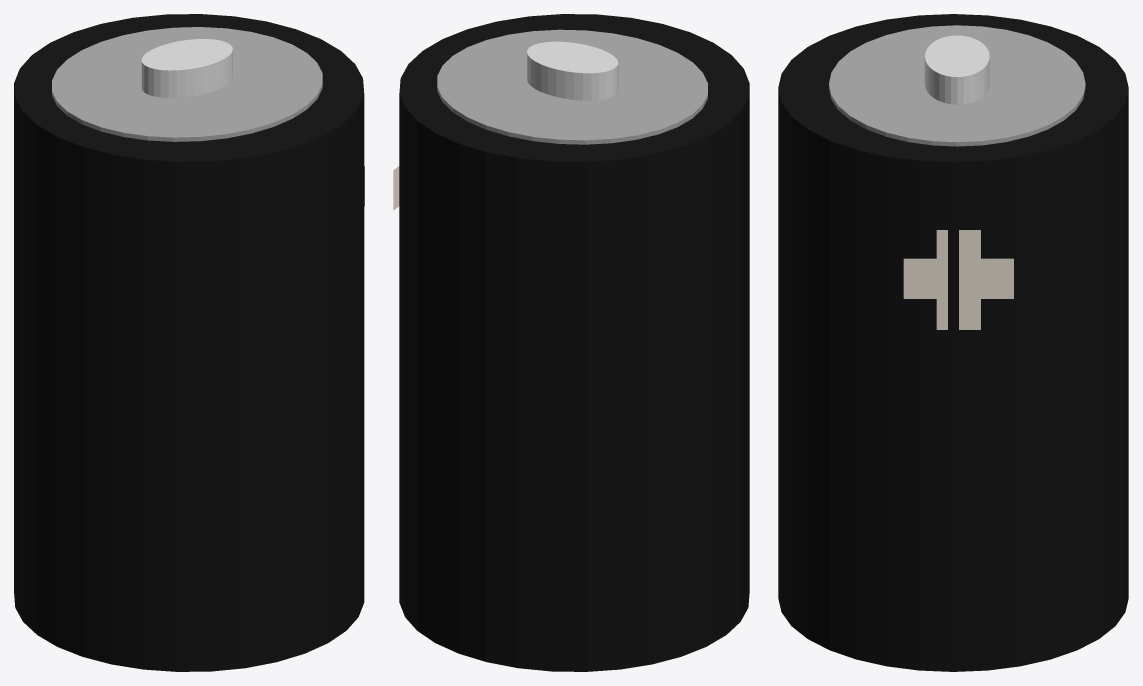
Rendered from Drycell.gltf.
The picture shows the model from 3 angles, left to right: view 1: azimuth 30°, elevation 25°; view 2: azimuth 150°, elevation 25°; view 3: azimuth 270°, elevation 25°; orthographic projection.
Parts seen in each view (by area): view 1: Plane.001; view 2: Plane.001; view 3: Plane.001.
Part boxes in pixels (x1,y1,x2,y2): Plane.001: (14, 14, 364, 671); Plane.001: (393, 14, 749, 671); Plane.001: (778, 14, 1128, 671).
Bounding box in the file's own units: 3 × 5.18 × 3.
